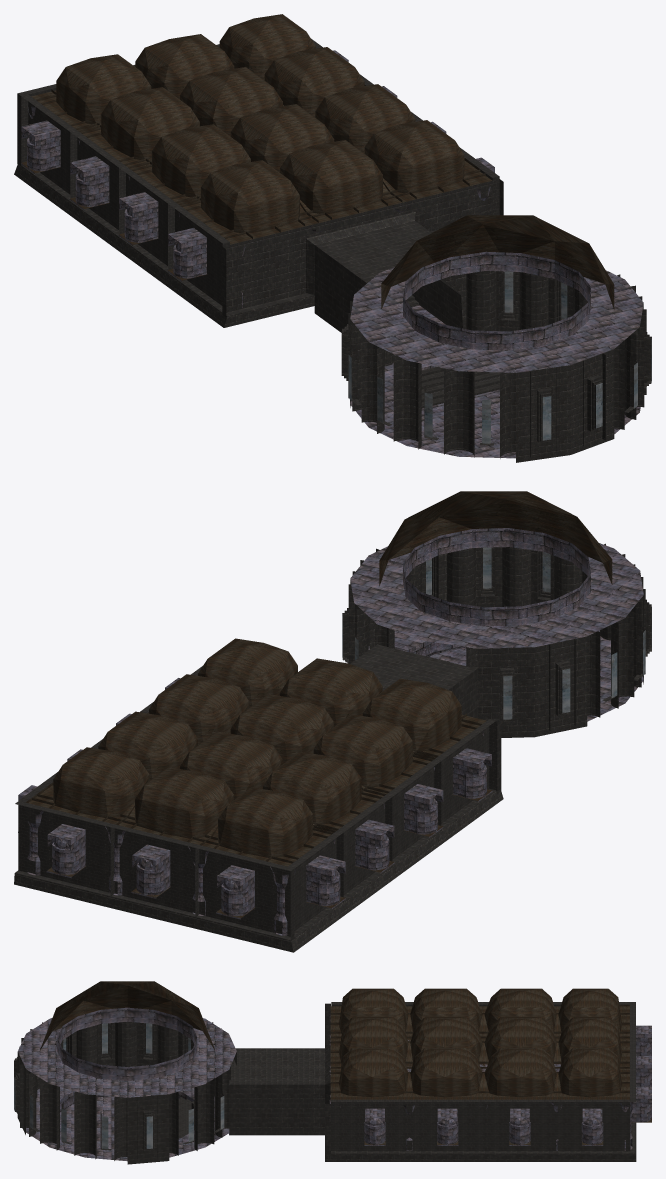
The model's file is Sacred.obj.
3 views of the same model, one above another, from view 1: azimuth 30°, elevation 25°; view 2: azimuth 150°, elevation 25°; view 3: azimuth 270°, elevation 25° (orthographic). The views are drawn at different scales.
Parts seen in each view (by area): view 1: User defined53, User defined116, User defined54, Cube57, Sphere172, Cube56, User defined179, User defined178, User defined115, Cylinder150, Cylinder149, User defined74 (+16 smaller); view 2: User defined53, User defined116, User defined55, User defined54, Cube56, Sphere172, User defined185, User defined184, User defined115, Cylinder153, Cylinder148, User defined73 (+8 smaller); view 3: User defined53, User defined116, Sphere172, Cube56, User defined70, User defined115, User defined173, User defined55, Cube57, User defined73, User defined74, Cylinder155 (+16 smaller).
Part boxes in pixels (x1,y1,x2,y2): User defined53: (31,14,499,244); User defined116: (350,251,643,372); User defined54: (21,94,229,305); Cube57: (222,179,503,319); Sphere172: (381,215,614,309); Cube56: (14,164,314,327); User defined179: (516,365,570,462); User defined178: (571,349,614,454); User defined115: (350,355,640,458); Cylinder150: (444,368,474,457); Cylinder149: (393,355,421,449); User defined74: (316,236,399,282); User defined53: (18,638,486,871); User defined116: (350,528,643,648); User defined55: (15,801,294,941); User defined54: (287,719,496,936); Cube56: (14,788,503,952); Sphere172: (379,491,612,586); User defined185: (477,647,535,737); User defined184: (535,636,587,736); User defined115: (368,630,643,721); Cylinder153: (502,547,531,606); Cylinder148: (611,611,634,708); User defined73: (350,644,428,690); User defined53: (330,988,630,1151); User defined116: (18,1007,236,1097); Sphere172: (40,981,214,1049); Cube56: (325,1122,636,1161); User defined70: (229,1101,324,1135); User defined115: (26,1087,228,1161); User defined173: (127,1094,169,1164); User defined55: (630,1002,651,1153); Cube57: (313,1003,330,1156); User defined73: (229,1066,324,1084); User defined74: (231,1048,324,1065); Cylinder155: (74,1091,96,1159).
Size of the model in its own units: 2154 by 1230 by 5115.
